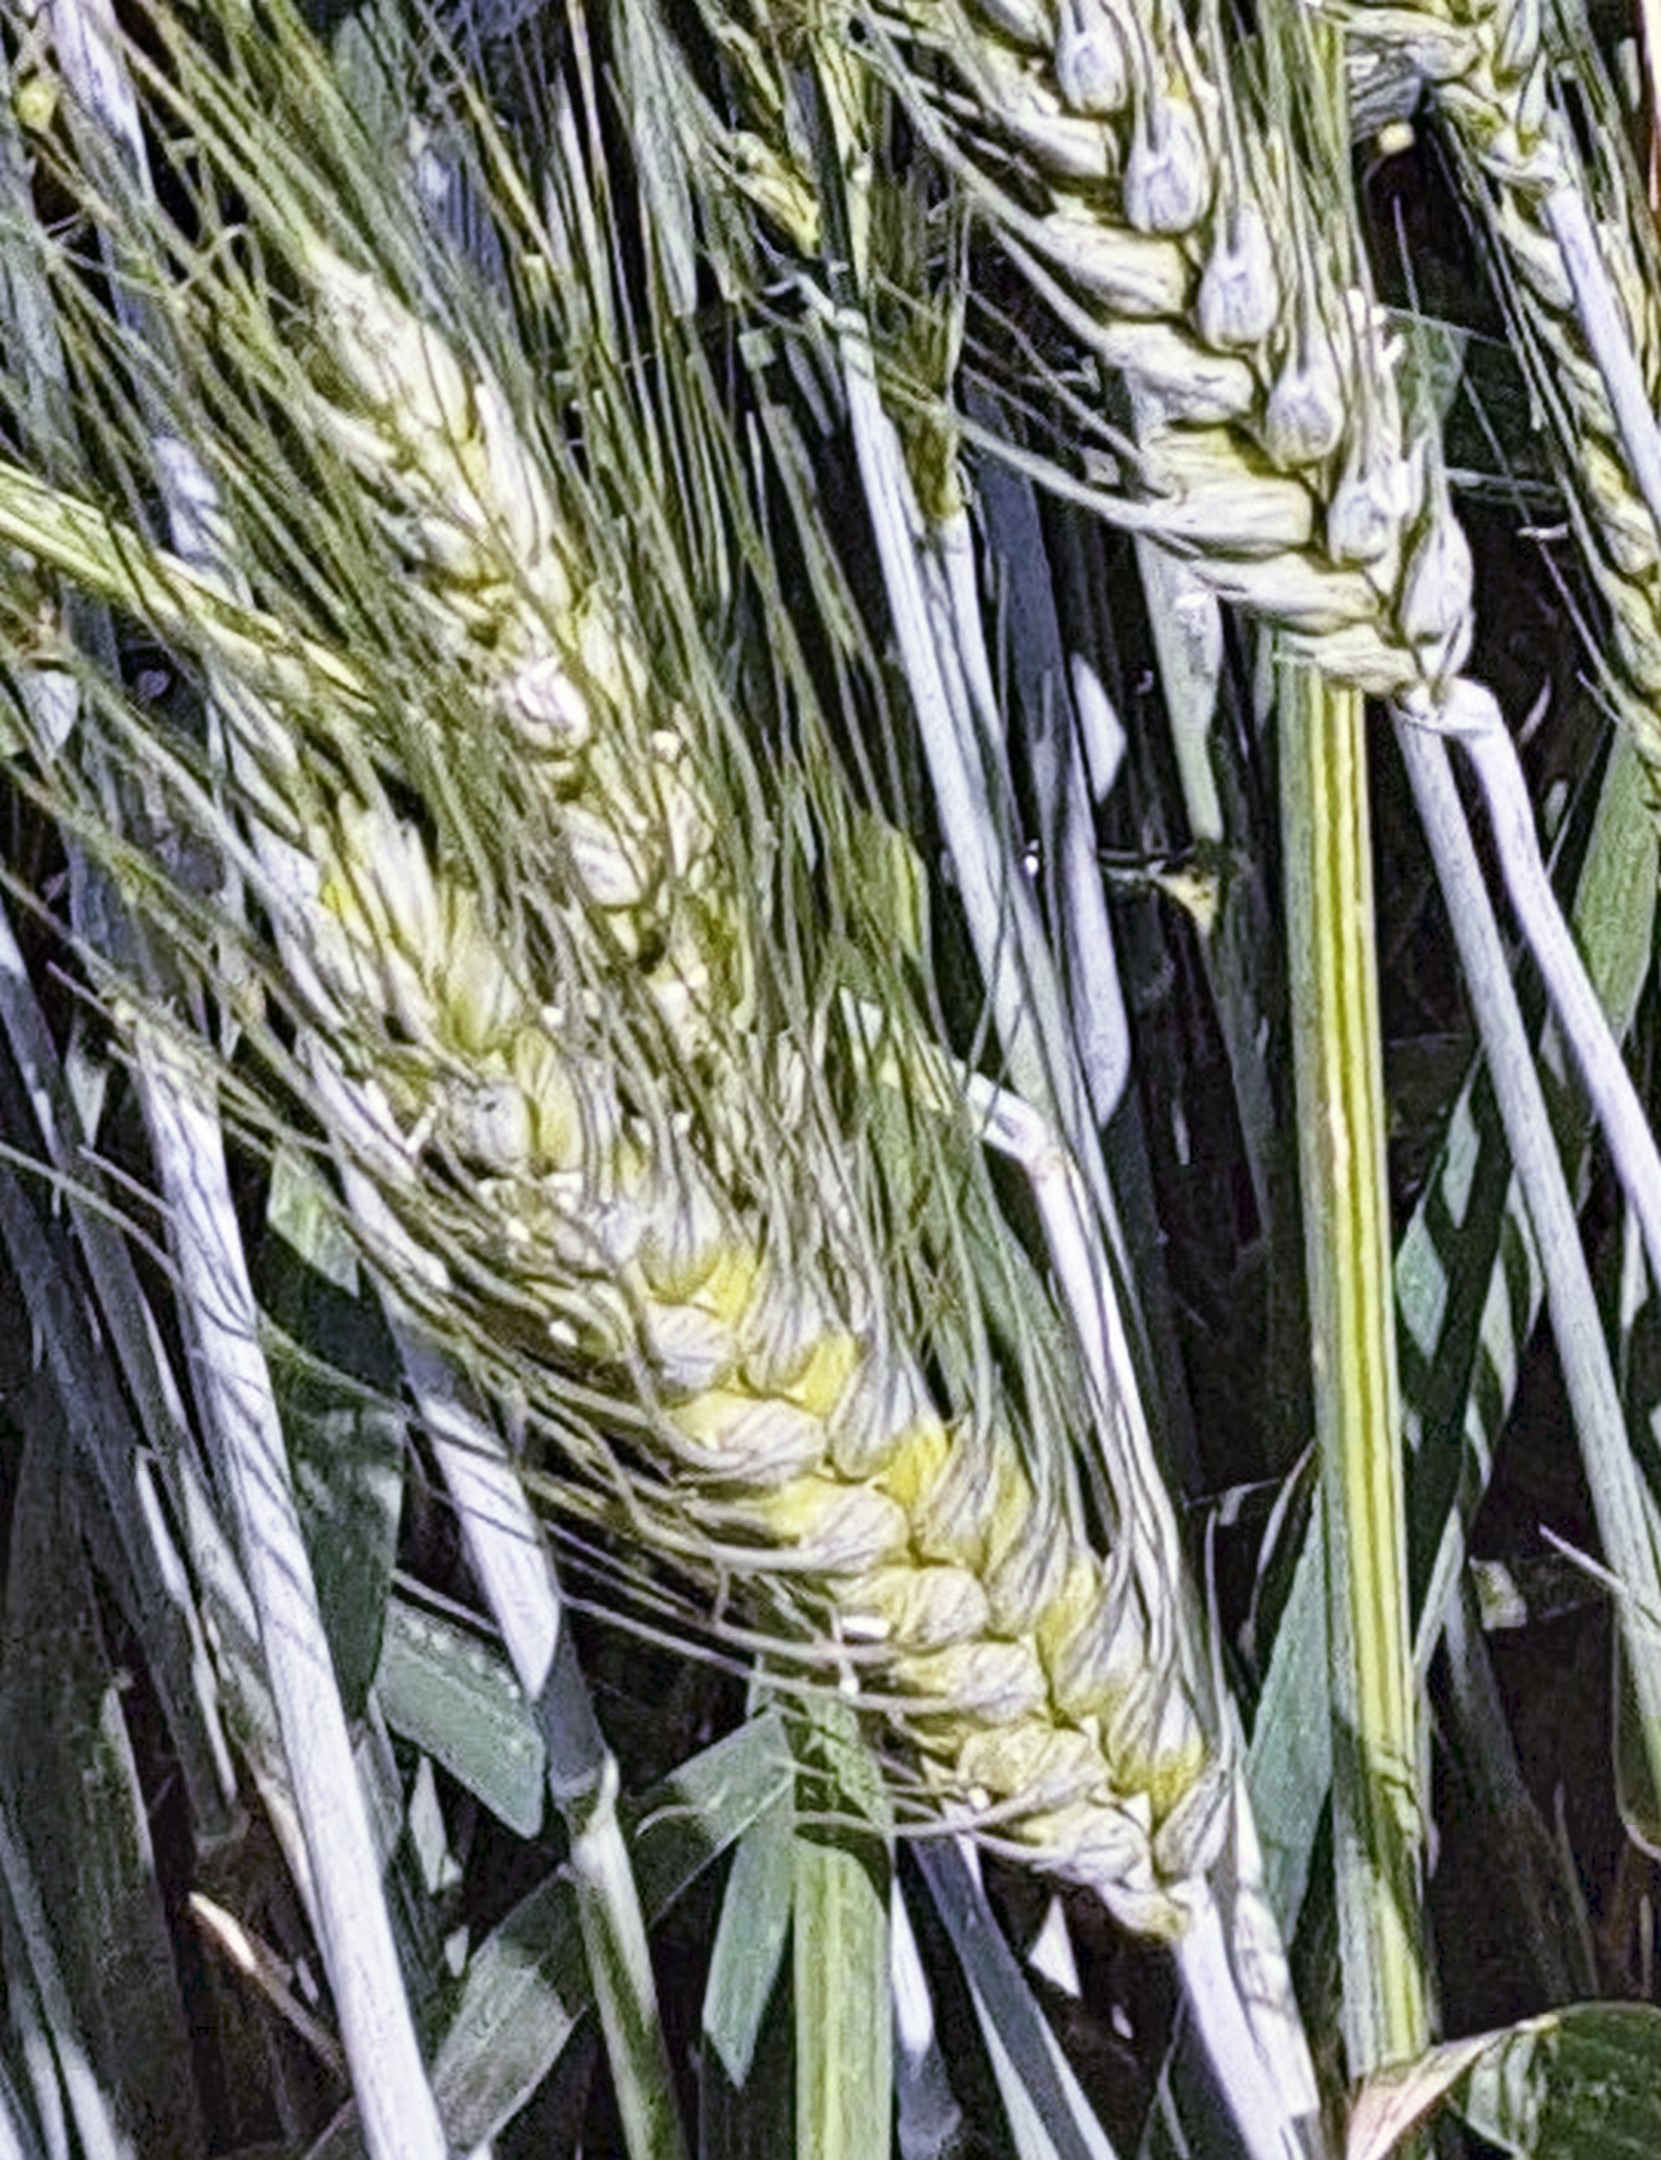Healthy Wheat: (216, 818, 1220, 1891)
